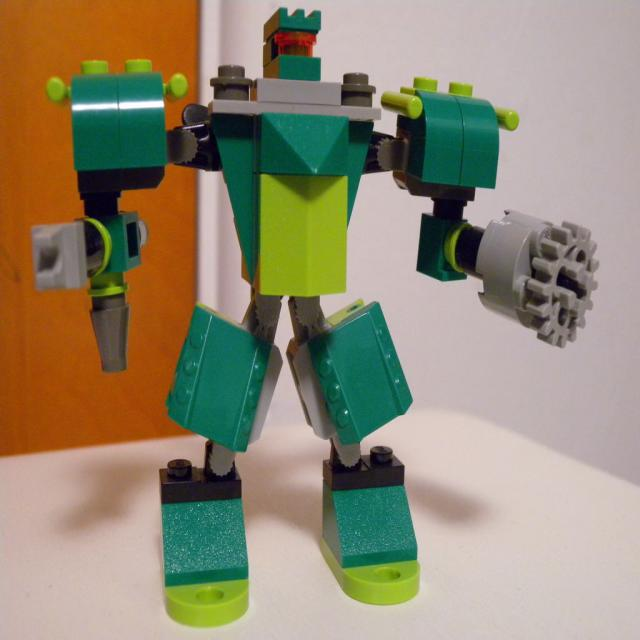Toy: (30, 6, 599, 628)
